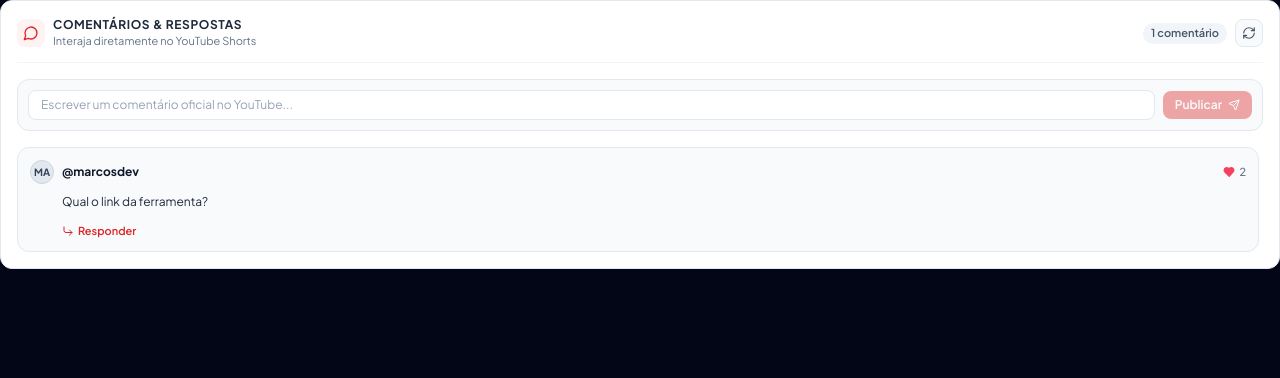
Test: PostCommentsSection Component › permite responder a um comentário específico
Expected: the text "@marcosdev" is shown, [62,164,139,180]
// Clica no botão Responder
Click the button with test id "btn-reply-yt_c1". click: (99, 231)
box: [62,223,136,239]
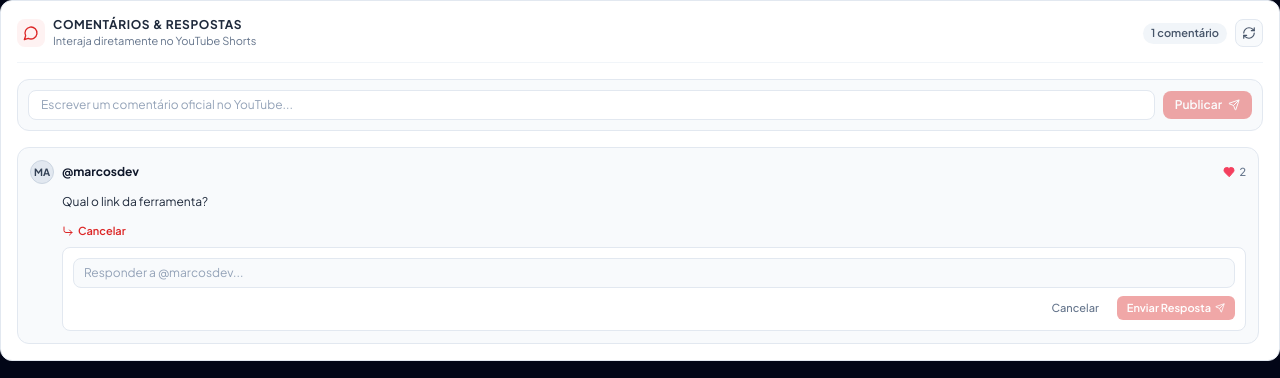
// Digita a resposta
Type "Segue o link oficial!" into the field with test id "input-reply-yt_c1". click: (654, 273)
box: [73,258,1235,288]
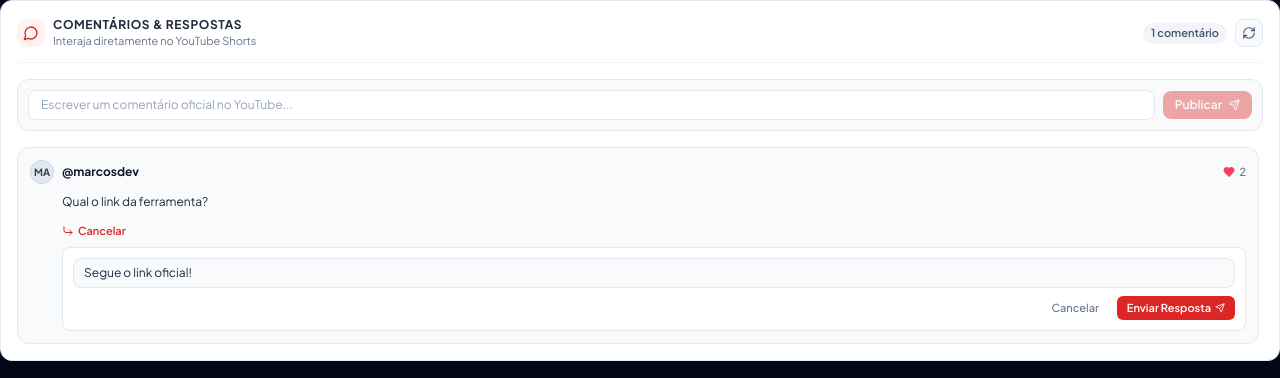
Now the button with test id "btn-submit-reply-yt_c1" is enabled
// Submete a resposta
Click the button with test id "btn-submit-reply-yt_c1". click: (1176, 308)
box: [1117,296,1235,320]
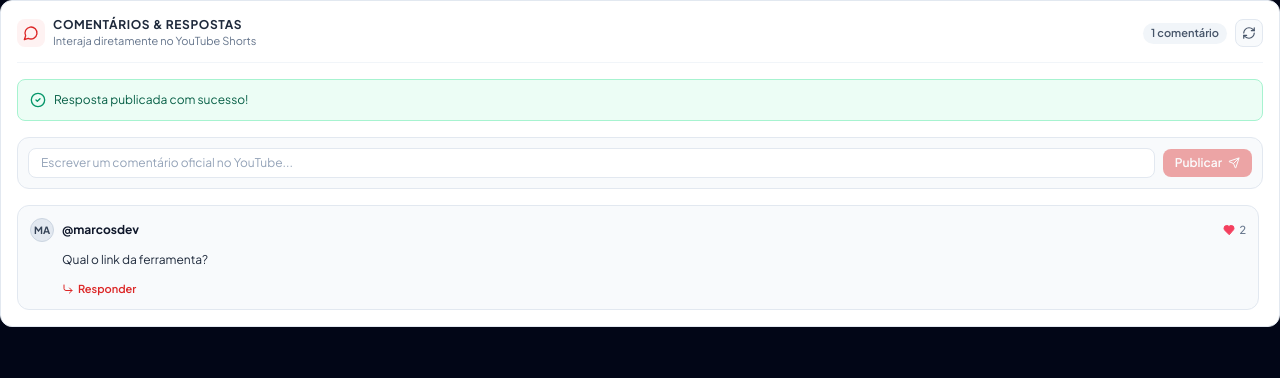
Now the text "Resposta publicada com sucesso!" is shown, box [54,92,248,108]
